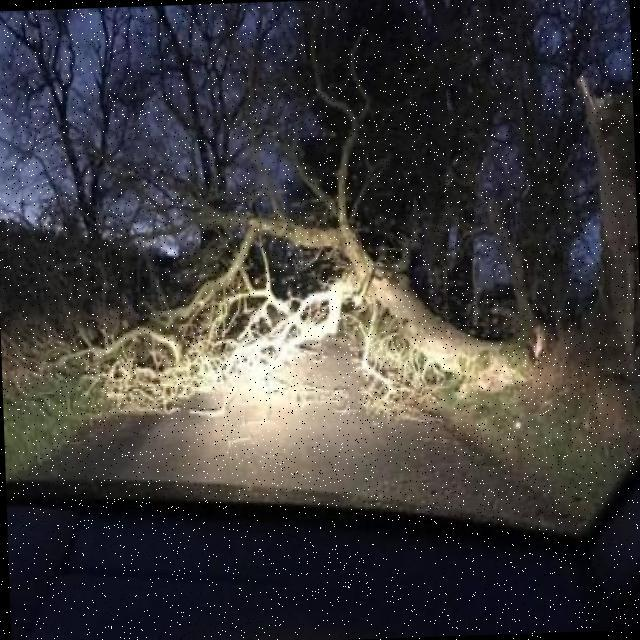fallen_object: (70, 189, 542, 421)
